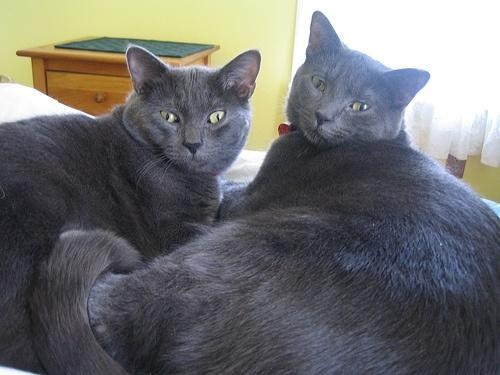cat: (33, 11, 500, 375), (4, 44, 263, 316)
